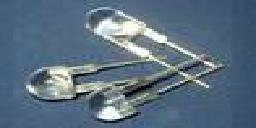LED: (82, 4, 171, 56), (82, 81, 172, 128), (27, 64, 87, 103)
